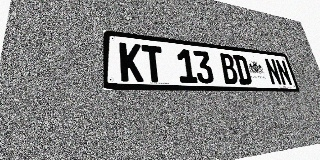1: (175, 48, 198, 83)
3: (193, 50, 215, 84)
B: (219, 53, 239, 84)
D: (232, 54, 253, 85)
K: (119, 42, 144, 82)
N: (264, 58, 283, 85), (274, 59, 293, 86)
T: (141, 45, 165, 82)
